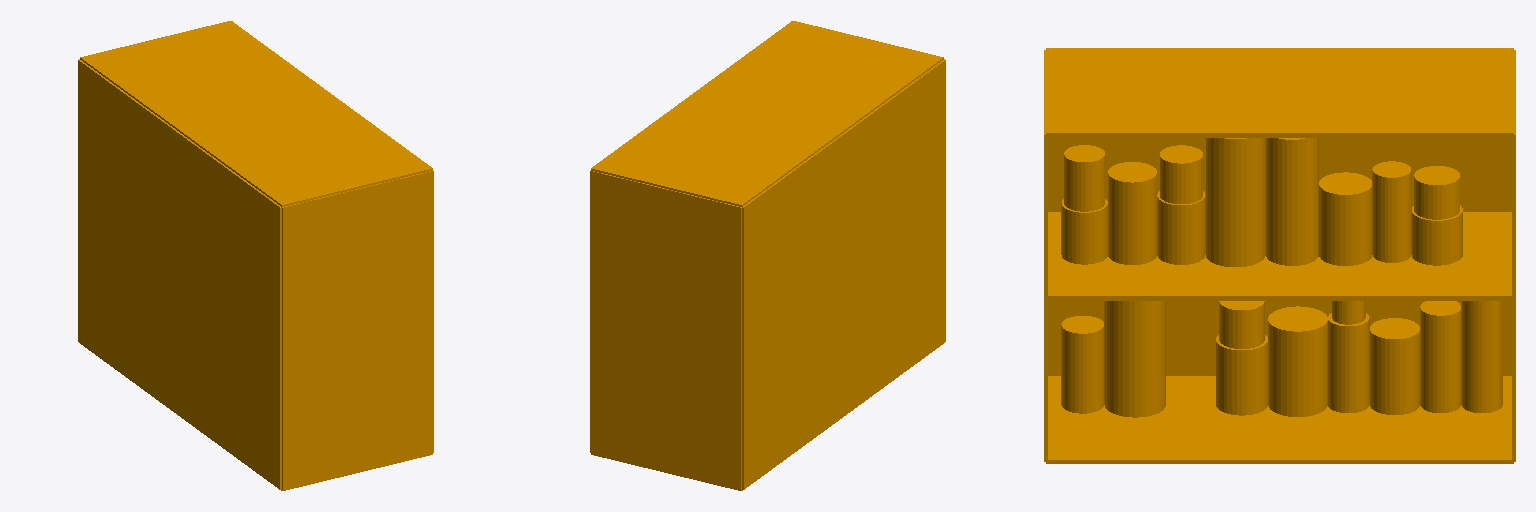
The robot description file, URDF, robot "syn_can_cabinet_packed_nonuniform_221":
<?xml version="1.0" ?>
<robot name="syn_can_cabinet_packed_nonuniform_221">
    <link concave="yes" name="base_link">
        <inertial>
            <origin rpy="0 0 0" xyz="0 0 0"/>
            <mass value="0.0"/>
            <inertia ixx="1e-08" ixy="0" ixz="0" iyy="1e-08" iyz="0" izz="1e-08"/>
        </inertial>
        <visual>
            <origin xyz="0 0 0" rpy="0 0 0" />
            <geometry>
                <mesh filename="syn_can_cabinet_packed_nonuniform_221.obj" scale="1.000000 1.000000 1.000000"/>
            </geometry>         
        </visual>

        <collision concave="yes">
            <origin xyz="0 0 0" rpy="0 0 0"/>
            <geometry>
                <mesh filename="syn_can_cabinet_packed_nonuniform_221.obj" scale="1.000000 1.000000 1.000000"/>
            </geometry>
        </collision>
    </link>
</robot>
    

--- What the picture shows (computed from the rendered views, not written in the file) ---
The picture shows the robot from 3 angles, left to right: view 1: azimuth 30°, elevation 25°; view 2: azimuth 150°, elevation 25°; view 3: azimuth 270°, elevation 25°; orthographic projection.
Robot: syn_can_cabinet_packed_nonuniform_221 — 1 links, 0 joints (none); root link base_link; default pose: all joints at 0.
Links seen in each view (by area): view 1: base_link; view 2: base_link; view 3: base_link.
Boxes of the visible links, x1,y1,x2,y2 form: base_link: (78,21,433,490); base_link: (590,21,945,490); base_link: (1044,48,1515,463).
Bounding box of the posed robot: 0.2127 × 0.4898 × 0.3803 m (x, y, z).
Meshes: 1 distinct files referenced, 1 mesh visuals loaded (1 OBJ).
